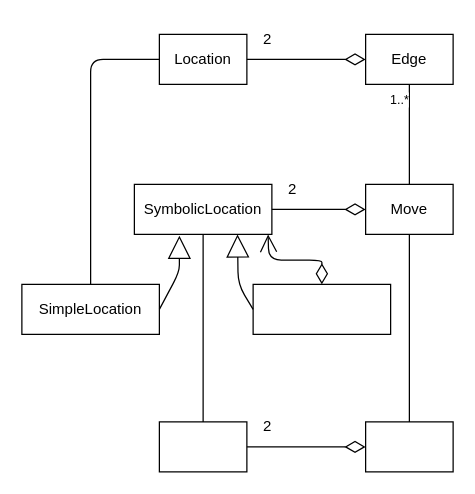
Some shapes in this 475 by 494 pixel diagram are drawn without their labels. The centre of each missing label's shape, as x and y in pixels:
"ComplexLocation" belongs at point (321, 308).
"State" belongs at point (202, 446).
"Transition" belongs at point (408, 446).
